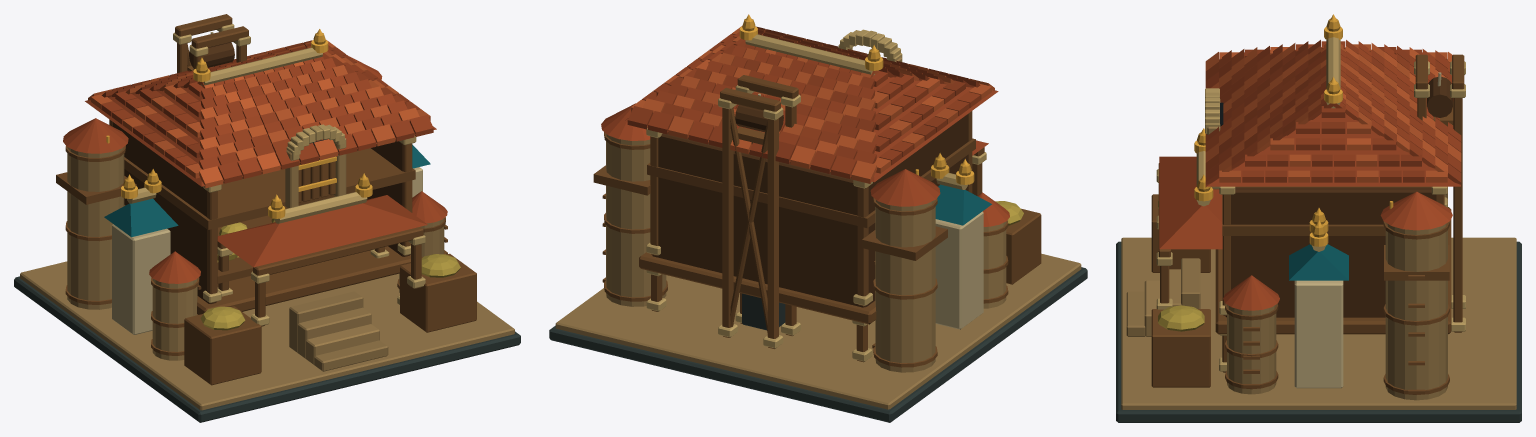
The picture shows the model from 3 angles, left to right: view 1: azimuth 30°, elevation 25°; view 2: azimuth 150°, elevation 25°; view 3: azimuth 270°, elevation 25°; orthographic projection. The views are drawn at different scales.
Visible parts, largest first — view 1: granary_11_structure, granary_11_metal; view 2: granary_11_structure, granary_11_metal; view 3: granary_11_structure, granary_11_metal.
Boxes of the visible parts, x1=… form: granary_11_structure: x1=14, y1=14, x2=520, y2=422; granary_11_metal: x1=106, y1=29, x2=372, y2=218; granary_11_structure: x1=549, y1=19, x2=1087, y2=422; granary_11_metal: x1=739, y1=14, x2=974, y2=184; granary_11_structure: x1=1116, y1=18, x2=1521, y2=422; granary_11_metal: x1=1194, y1=14, x2=1393, y2=246.
Bounding box in the file's own units: 5.6 × 4.46 × 5.6.
